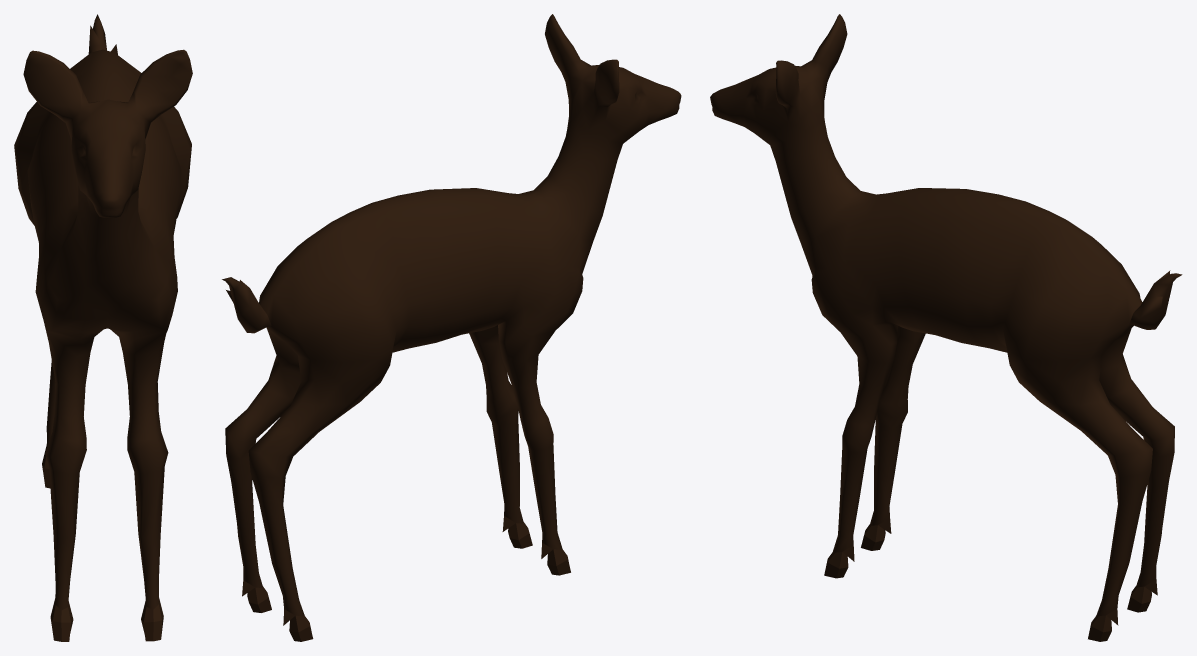
The model's file is Deer_Small.FBX.
3 views of the same model, side by side, from view 1: azimuth 30°, elevation 25°; view 2: azimuth 150°, elevation 25°; view 3: azimuth 270°, elevation 25° (orthographic). The views are drawn at different scales.
Visible parts, largest first — view 1: Deer_Small; view 2: Deer_Small; view 3: Deer_Small.
Part boxes in pixels (bbox=[...]): Deer_Small: bbox=[14, 14, 192, 641]; Deer_Small: bbox=[222, 14, 681, 641]; Deer_Small: bbox=[710, 14, 1182, 641].
Size of the model in its own units: 2.16 by 4.29 by 3.58.
